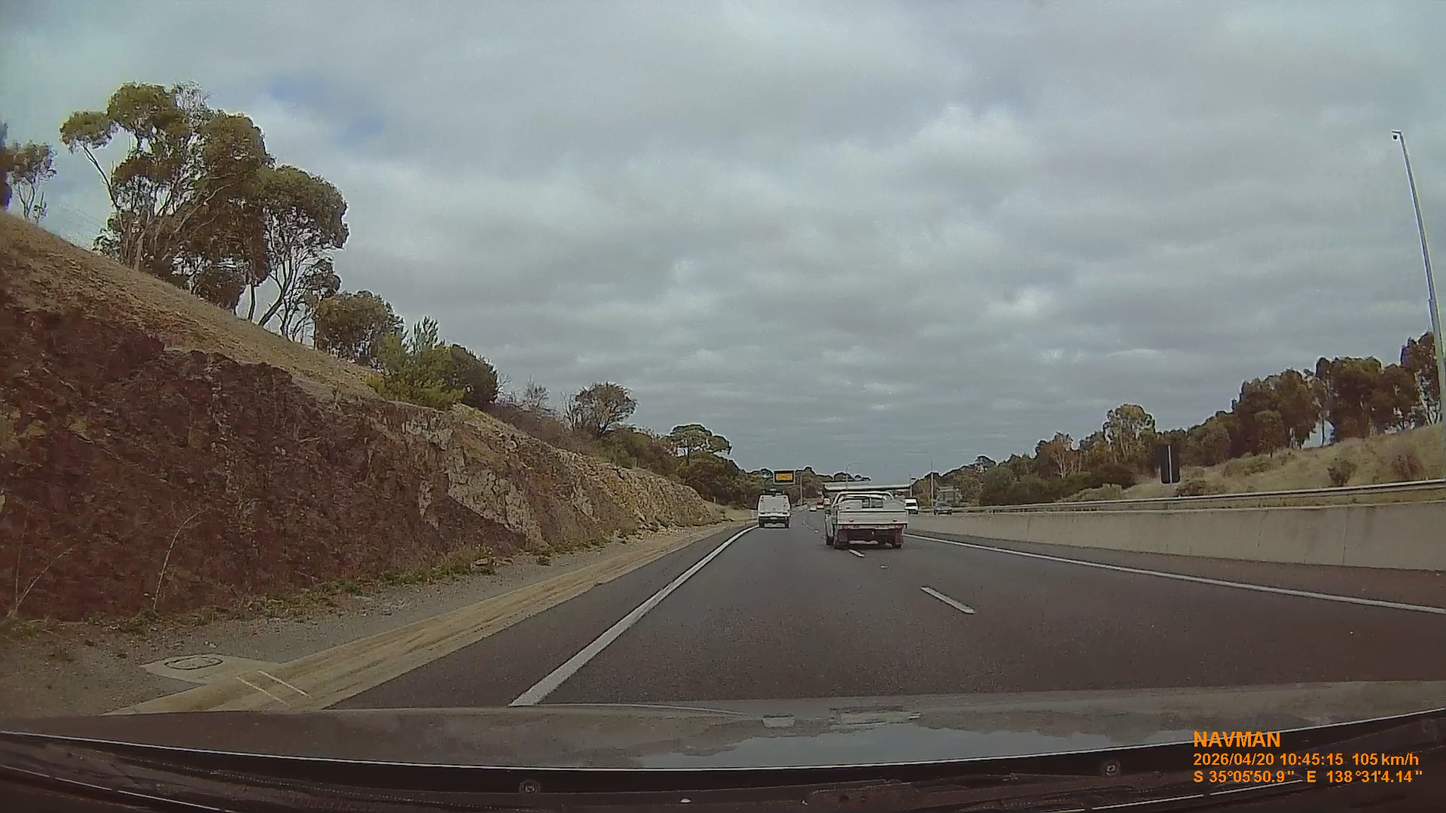road barriers: (913, 501, 1445, 571)
